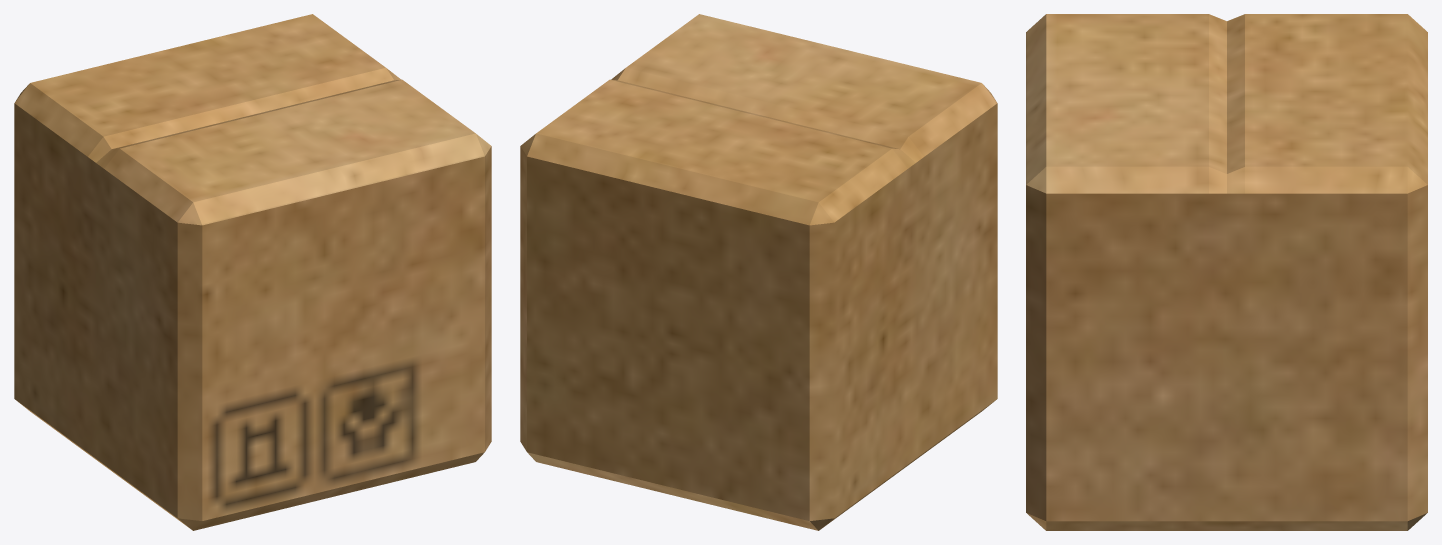
3 views of the same model, side by side, from view 1: azimuth 30°, elevation 25°; view 2: azimuth 150°, elevation 25°; view 3: azimuth 270°, elevation 25° (orthographic). The views are drawn at different scales.
Visible parts, largest first — view 1: коробка 1; view 2: коробка 1; view 3: коробка 1.
Boxes of the visible parts, x1,y1,x2,y2 form: коробка 1: (14, 14, 491, 530); коробка 1: (520, 14, 997, 530); коробка 1: (1026, 14, 1427, 530).
Bounding box in the file's own units: 10 × 10 × 10.
